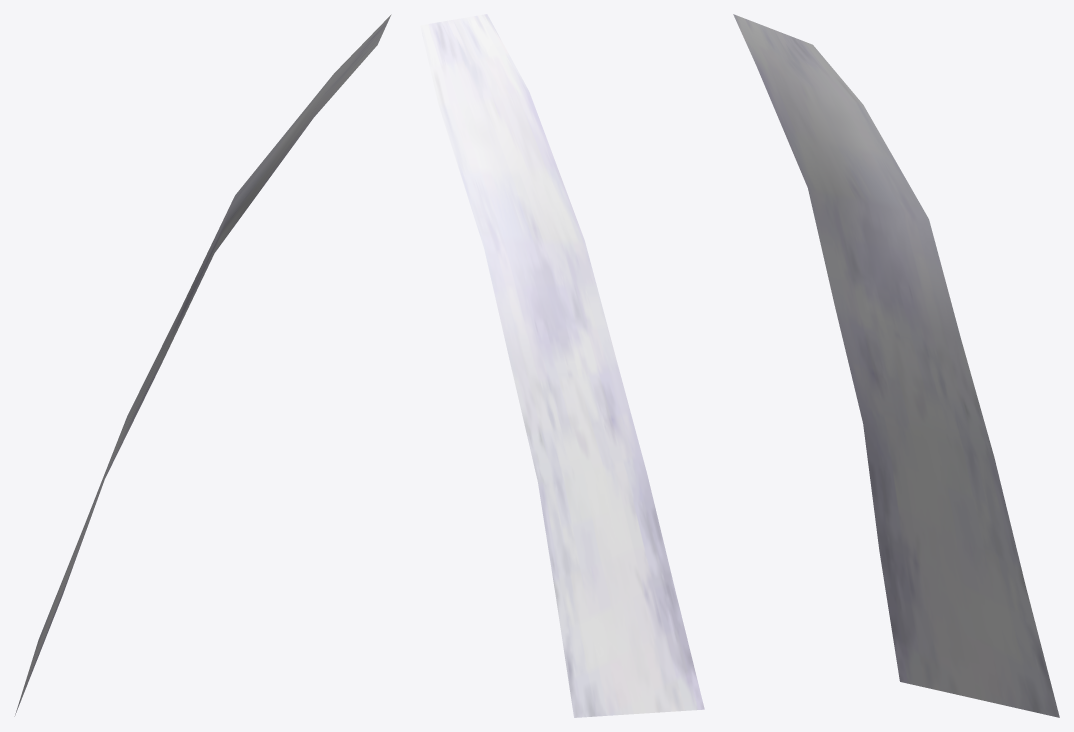
The model's file is OM_p_a_river_08f_00_18_0_13.fbx.
3 renders of one model, left to right at view 1: azimuth 30°, elevation 25°; view 2: azimuth 150°, elevation 25°; view 3: azimuth 270°, elevation 25°, orthographic. The views are drawn at different scales.
Parts seen in each view (by area): view 1: OM_p_a_river_08f_00_18_0_13; view 2: OM_p_a_river_08f_00_18_0_13; view 3: OM_p_a_river_08f_00_18_0_13.
Part boxes in pixels (x1,y1,x2,y2): OM_p_a_river_08f_00_18_0_13: [14, 14, 391, 716]; OM_p_a_river_08f_00_18_0_13: [420, 14, 704, 717]; OM_p_a_river_08f_00_18_0_13: [733, 14, 1059, 717].
Size of the model in its own units: 5.52 by 9.86 by 3.38.
